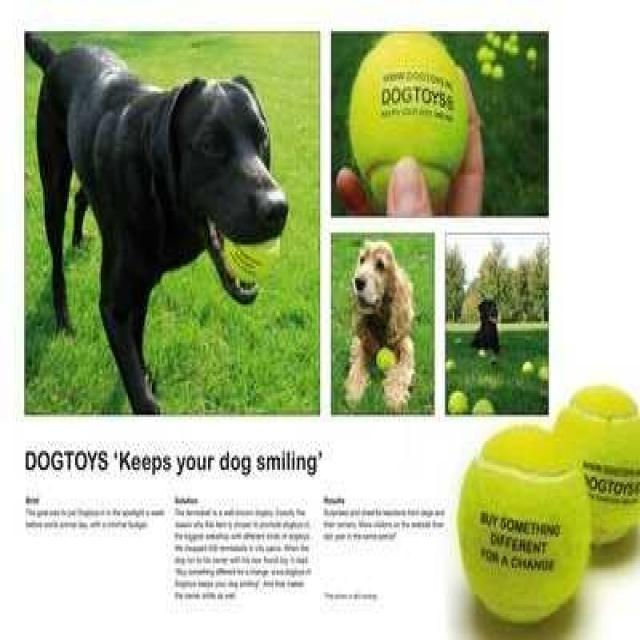Tennis_Ball: (465, 430, 584, 620), (352, 34, 462, 200), (561, 383, 640, 553)
